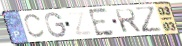C: (23, 13, 47, 40)
E: (86, 7, 116, 38)
G: (44, 11, 68, 39)
R: (114, 8, 144, 34)
Z: (133, 6, 165, 35), (66, 10, 96, 37)
